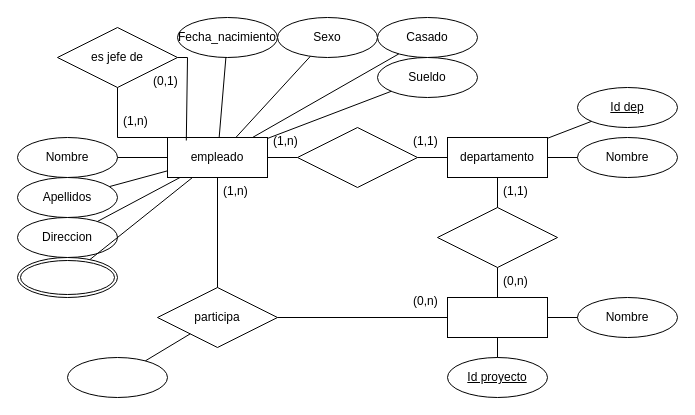
Image size: 695x415. Some labels were removed from this diagram. The shapes that lost their labels are listed below. From the top down, each one's centre as x and y in pixels, then its label:
At [357,157]: "trabaja".
At [497,237]: "gestiona".
At [67,277]: "Teléfono".
At [497,317]: "proyecto".
At [117,377]: "Tiempo_horas".
